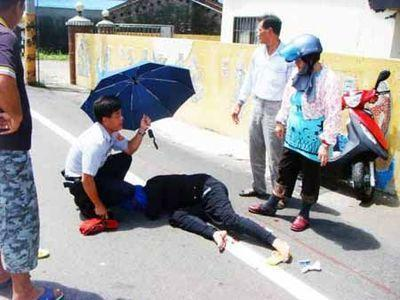Fall-Detected: (104, 164, 298, 261)
